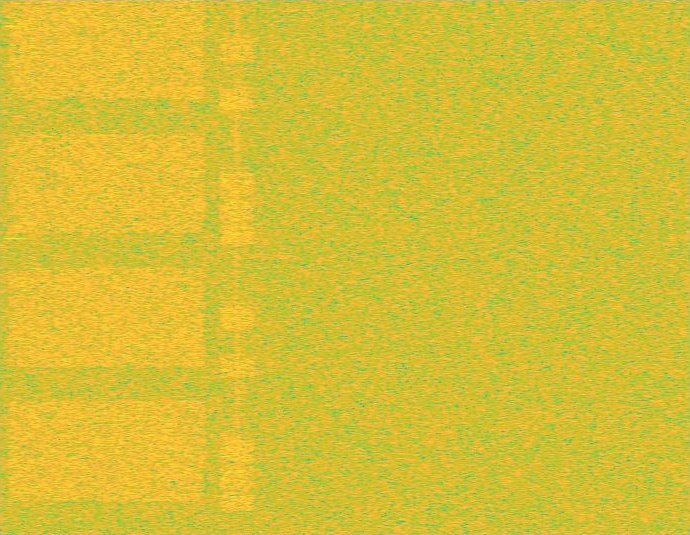5G: (3, 0, 210, 534)
DSSS: (235, 0, 240, 534)
LTE: (220, 0, 254, 534)
Radar: (7, 0, 21, 534)
